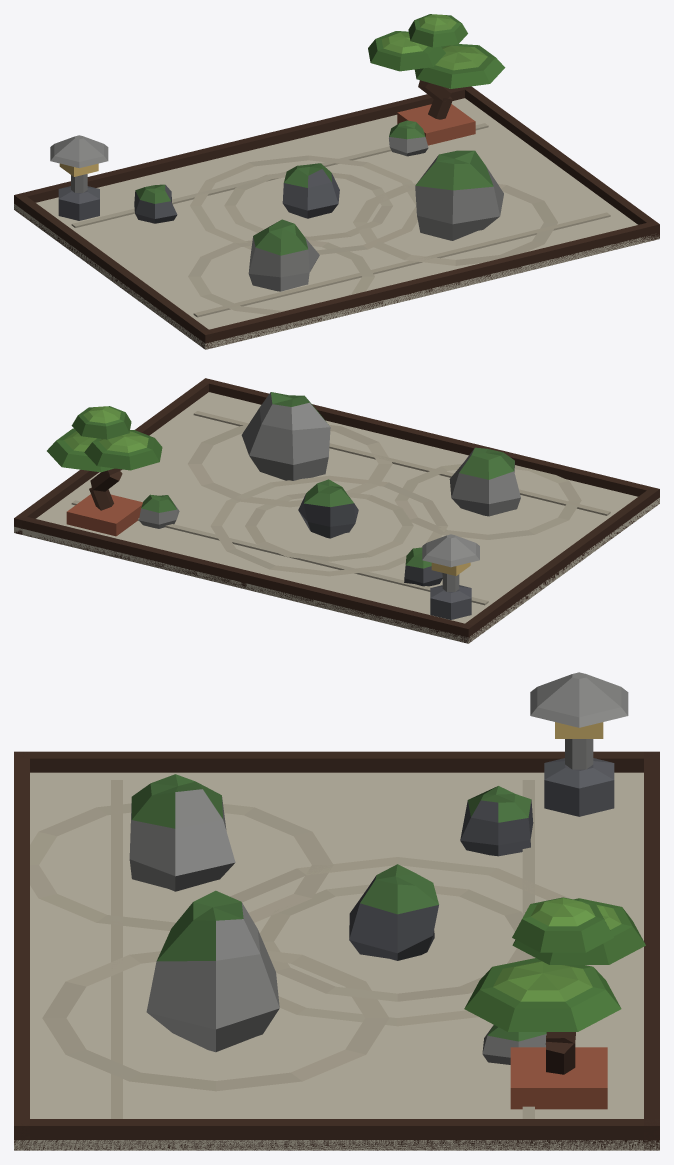
Rendered from Decor_SamuraiShrine_RockGarden.fbx.
3 views of the same model, one above another, from view 1: azimuth 30°, elevation 25°; view 2: azimuth 150°, elevation 25°; view 3: azimuth 270°, elevation 25° (orthographic). The views are drawn at different scales.
Parts seen in each view (by area): view 1: RockGarden_Body; view 2: RockGarden_Body; view 3: RockGarden_Body.
Boxes of the visible parts, bbox=[...] form: RockGarden_Body: bbox=[14, 14, 659, 349]; RockGarden_Body: bbox=[14, 378, 659, 643]; RockGarden_Body: bbox=[14, 672, 659, 1150].
Bounding box in the file's own units: 22 × 5.4 × 16.05.
